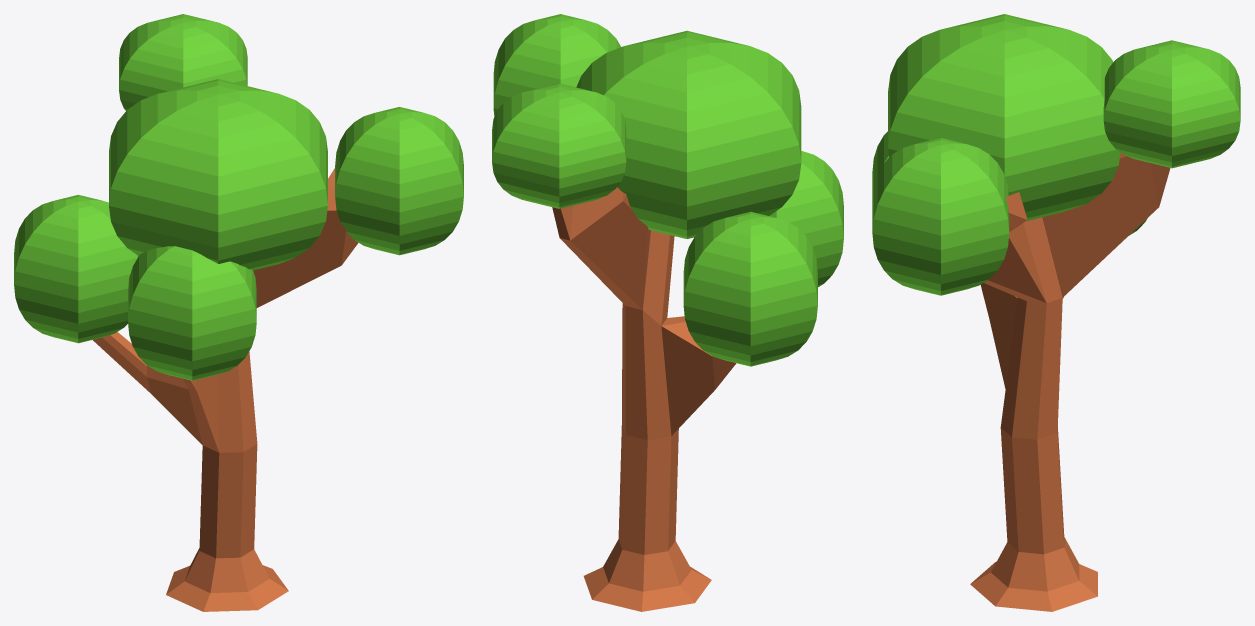
The model's file is gBaconJamTree.fbx.
3 renders of one model, left to right at view 1: azimuth 30°, elevation 25°; view 2: azimuth 150°, elevation 25°; view 3: azimuth 270°, elevation 25°, orthographic. The views are drawn at different scales.
Visible parts, largest first — view 1: Cylinder; view 2: Cylinder; view 3: Cylinder.
Part boxes in pixels (x1,y1,x2,y2): Cylinder: [14, 14, 463, 611]; Cylinder: [492, 14, 843, 611]; Cylinder: [872, 14, 1240, 611].
Size of the model in its own units: 5.91 by 7.61 by 4.66.
